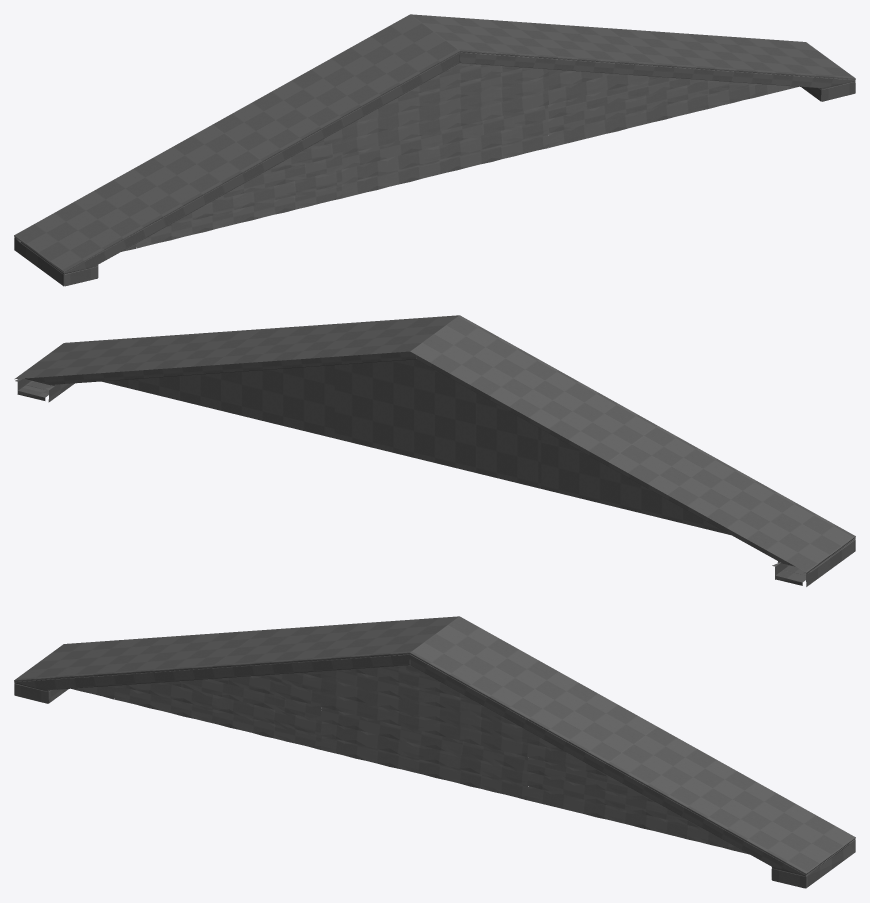
Rendered from SM_House_Roof_A_ShortEnd.glb.
3 views of the same model, one above another, from view 1: azimuth 30°, elevation 25°; view 2: azimuth 150°, elevation 25°; view 3: azimuth 330°, elevation 25° (orthographic).
Visible parts, largest first — view 1: SM_House_Roof_A_ShortEnd; view 2: SM_House_Roof_A_ShortEnd; view 3: SM_House_Roof_A_ShortEnd.
Part boxes in pixels (x1,y1,x2,y2): SM_House_Roof_A_ShortEnd: (14, 14, 855, 286); SM_House_Roof_A_ShortEnd: (14, 315, 855, 586); SM_House_Roof_A_ShortEnd: (14, 616, 855, 888).
Bounding box in the file's own units: 1151 × 194 × 125.
Materials: 1 (1 with a texture image).
